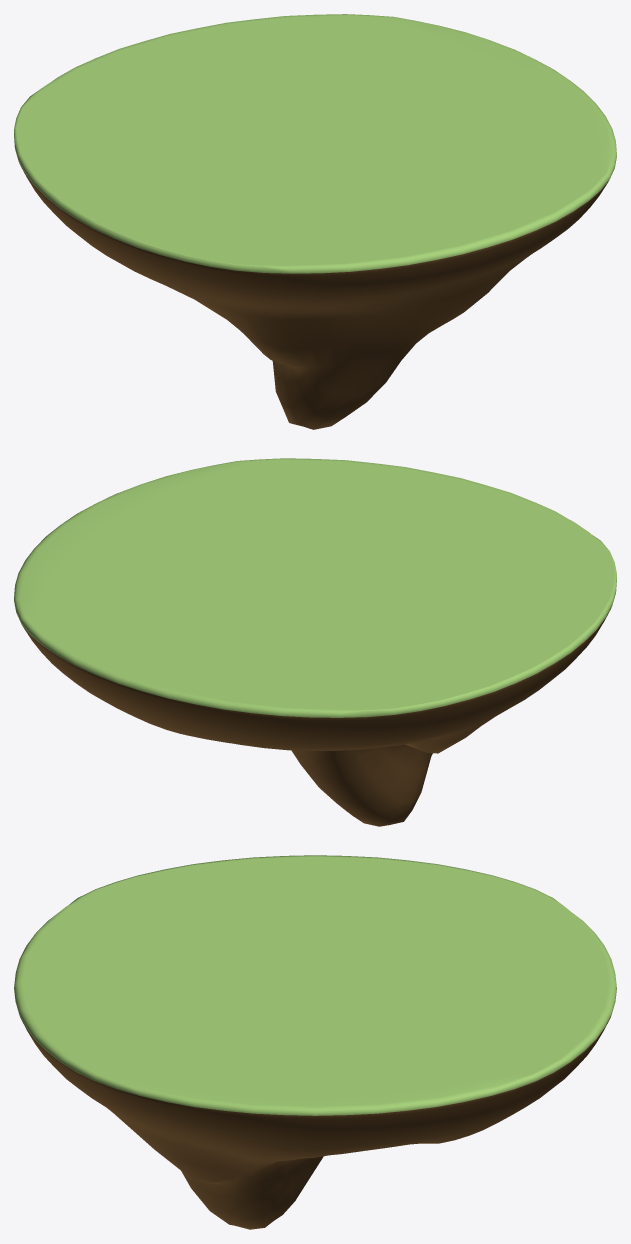
File: Terrain.fbx
The picture shows the model from 3 angles, top to bottom: view 1: azimuth 30°, elevation 25°; view 2: azimuth 150°, elevation 25°; view 3: azimuth 270°, elevation 25°; orthographic projection. The views are drawn at different scales.
Parts seen in each view (by area): view 1: Plane.016; view 2: Plane.016; view 3: Plane.016.
Part boxes in pixels (left/top/right/bottom): Plane.016: left=14, top=14, right=616, bottom=429; Plane.016: left=14, top=458, right=616, bottom=826; Plane.016: left=14, top=855, right=616, bottom=1229.
Bounding box in the file's own units: 19262 × 9186 × 19262.
